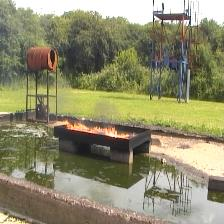fire: (62, 120, 124, 139)
